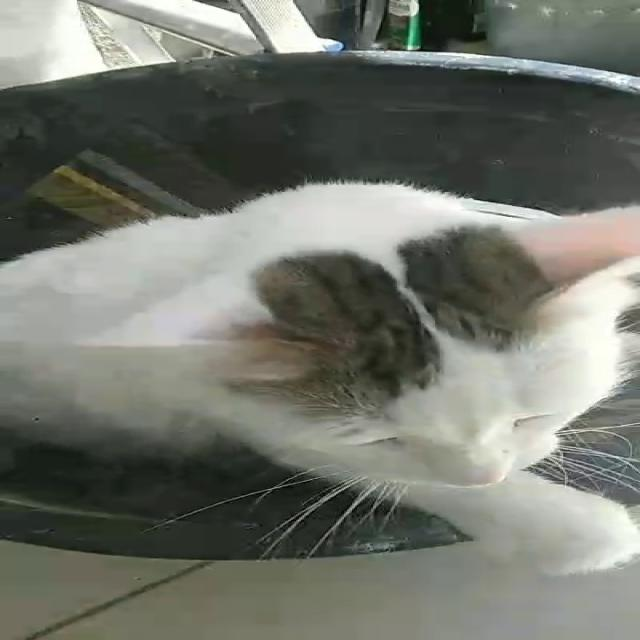Simba: (27, 172, 638, 598)
